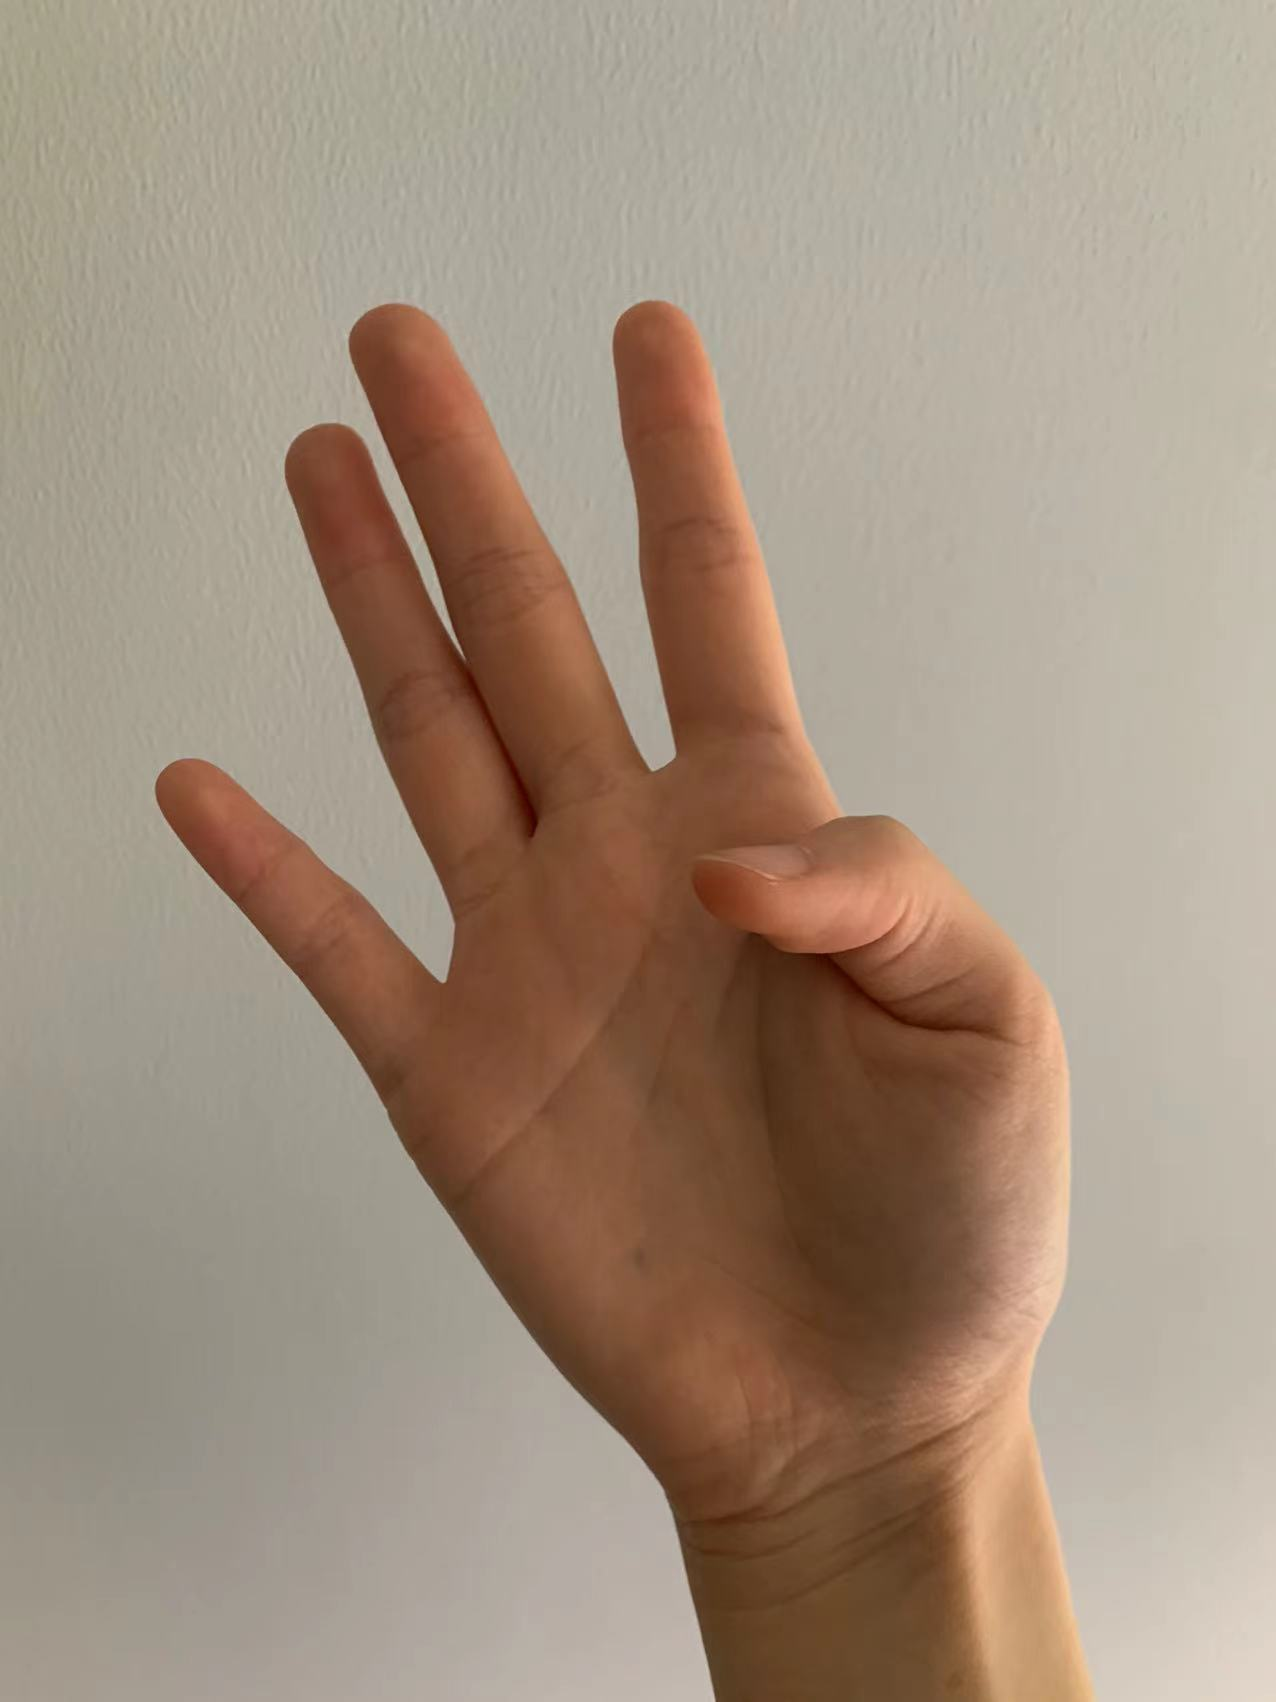right: (117, 285, 1066, 1513)
